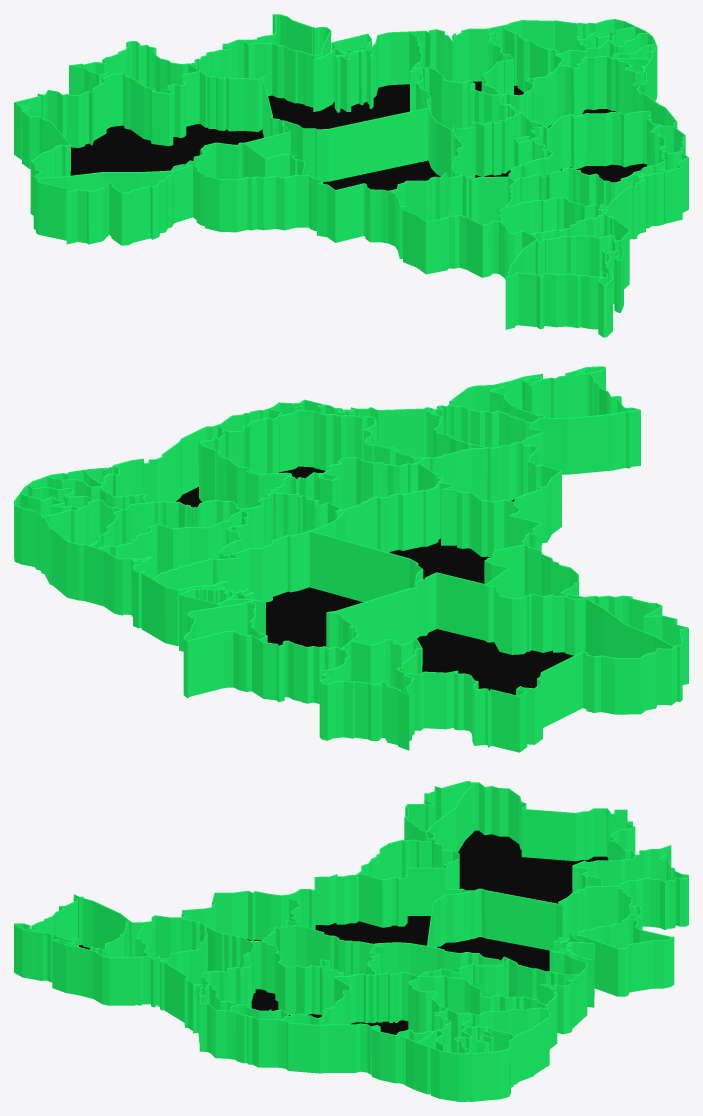
Rendered from BR_Map_001.glb.
3 renders of one model, top to bottom at view 1: azimuth 30°, elevation 25°; view 2: azimuth 150°, elevation 25°; view 3: azimuth 270°, elevation 25°, orthographic. The views are drawn at different scales.
Visible parts, largest first — view 1: PA_wll, AM_wll, RS_wll, MS._wll, MT_wll, RO_wll, AC_wll, BA_wll, MG_wll, RR_wll, TO_wll, AM (+18 smaller); view 2: AM_wll, PA_wll, RS_wll, BA_wll, GO_wll, RR_wll, MT_wll, MG_wll, RO_wll, AP_wll, MS._wll, SP_wll (+17 smaller); view 3: AM_wll, PA_wll, BA_wll, RS_wll, MT_wll, RO_wll, AM, MS._wll, MA_wll, MG_wll, RR_wll, AP_wll (+18 smaller).
Part boxes in pixels (x1,y1,x2,y2): PA_wll: (189, 31, 430, 181); AM_wll: (14, 71, 290, 229); RS_wll: (505, 234, 624, 337); MS._wll: (388, 172, 514, 277); MT_wll: (248, 109, 463, 243); RO_wll: (172, 142, 305, 232); AC_wll: (36, 170, 174, 245); BA_wll: (499, 56, 677, 171); MG_wll: (508, 110, 665, 205); RR_wll: (69, 41, 199, 145); TO_wll: (410, 67, 519, 177); AM: (70, 123, 263, 175); AM_wll: (326, 572, 674, 752); PA_wll: (152, 531, 423, 703); RS_wll: (489, 366, 640, 474); BA_wll: (100, 424, 291, 548); GO_wll: (270, 457, 444, 551); RR_wll: (319, 639, 422, 750); MT_wll: (324, 482, 541, 636); MG_wll: (198, 410, 423, 508); RO_wll: (484, 544, 584, 655); AP_wll: (183, 601, 267, 698); MS._wll: (418, 441, 561, 556); SP_wll: (337, 407, 486, 500); AM_wll: (427, 782, 635, 942); PA_wll: (427, 885, 642, 1021); BA_wll: (280, 972, 451, 1083); RS_wll: (14, 894, 129, 997); MT_wll: (286, 868, 470, 975); RO_wll: (359, 831, 459, 927); AM: (458, 830, 608, 903); MS._wll: (181, 890, 300, 989); MA_wll: (420, 960, 579, 1049); MG_wll: (201, 941, 350, 1024); RR_wll: (572, 845, 688, 929); AP_wll: (577, 914, 674, 996).
Size of the model in its own units: 24.87 by 2.05 by 26.
